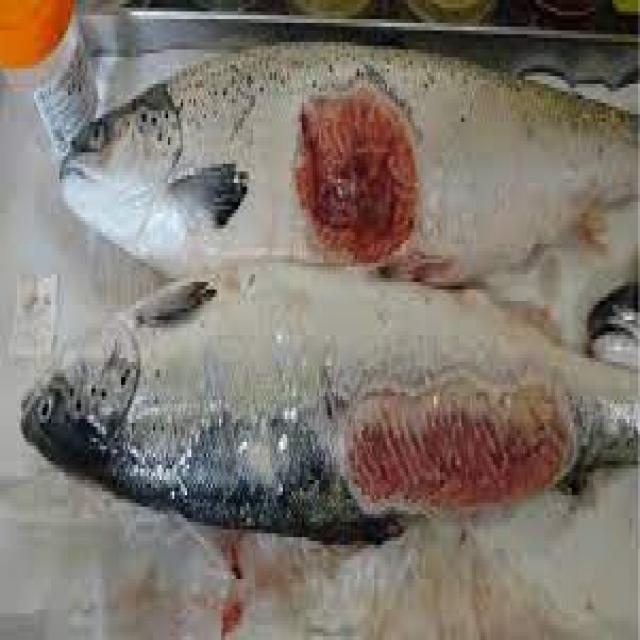EUS Disease: (17, 68, 640, 518), (333, 338, 594, 558), (283, 58, 445, 276)
